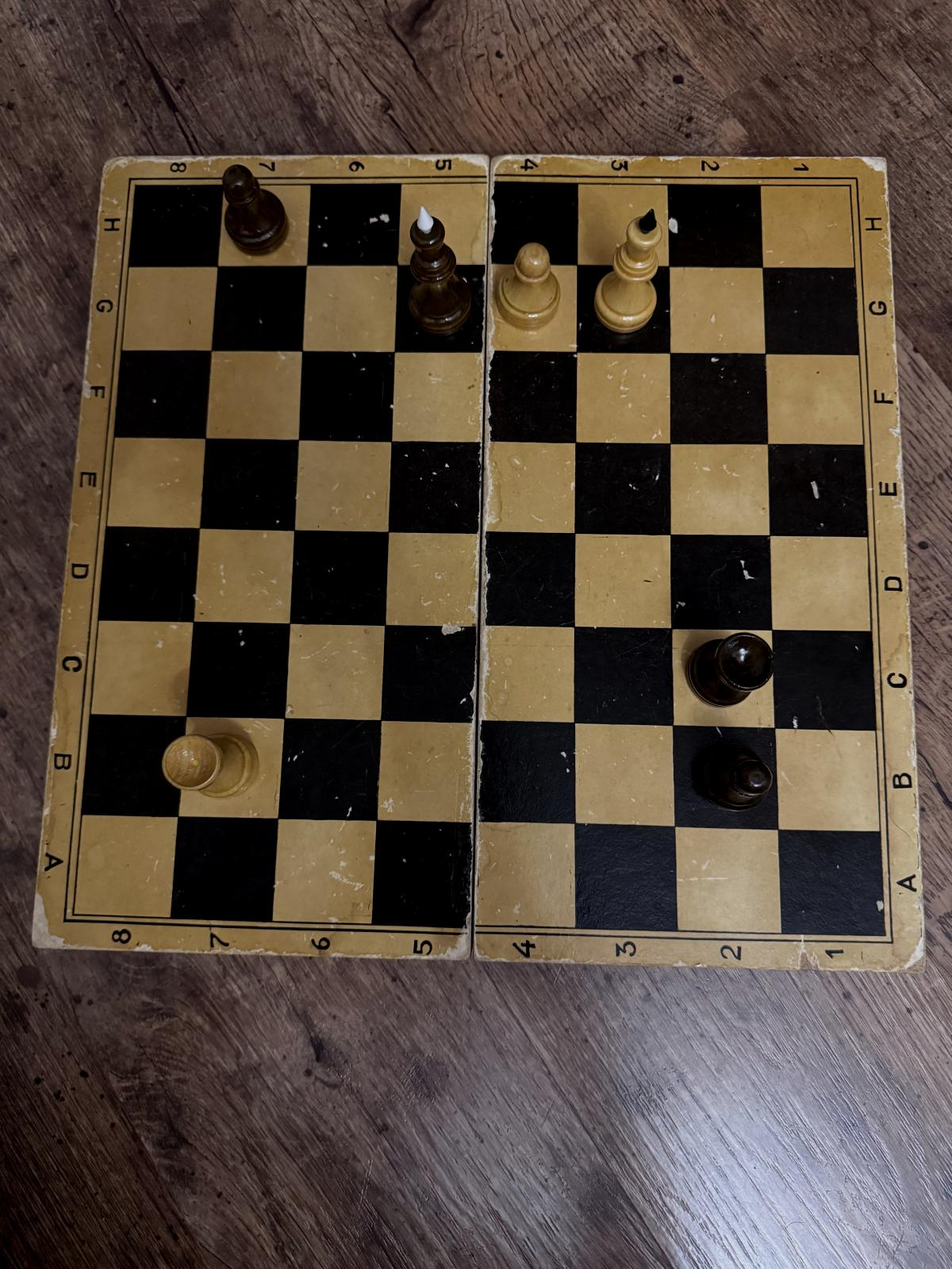Chess-Board: (73, 185, 886, 936)
